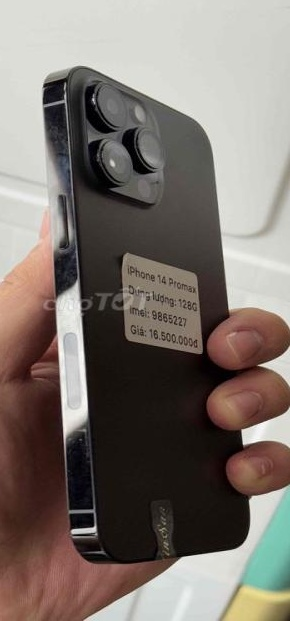scratch: (41, 112, 82, 283), (62, 414, 102, 476)
